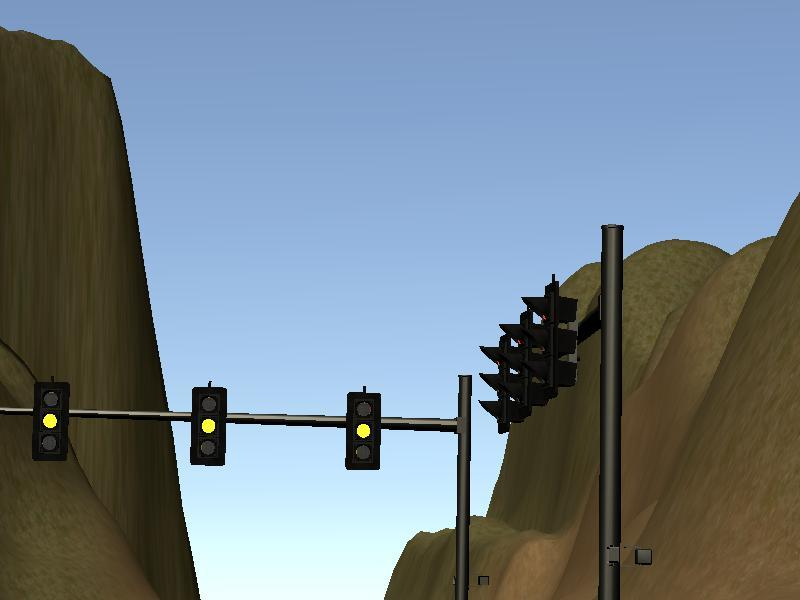Yellow: (345, 391, 382, 470), (189, 387, 226, 466), (31, 381, 68, 460)
